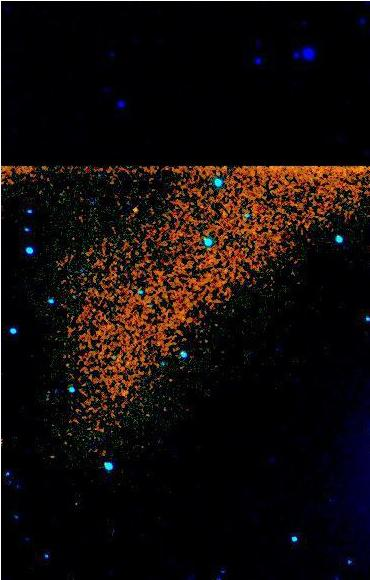star: (116, 193, 146, 223)
